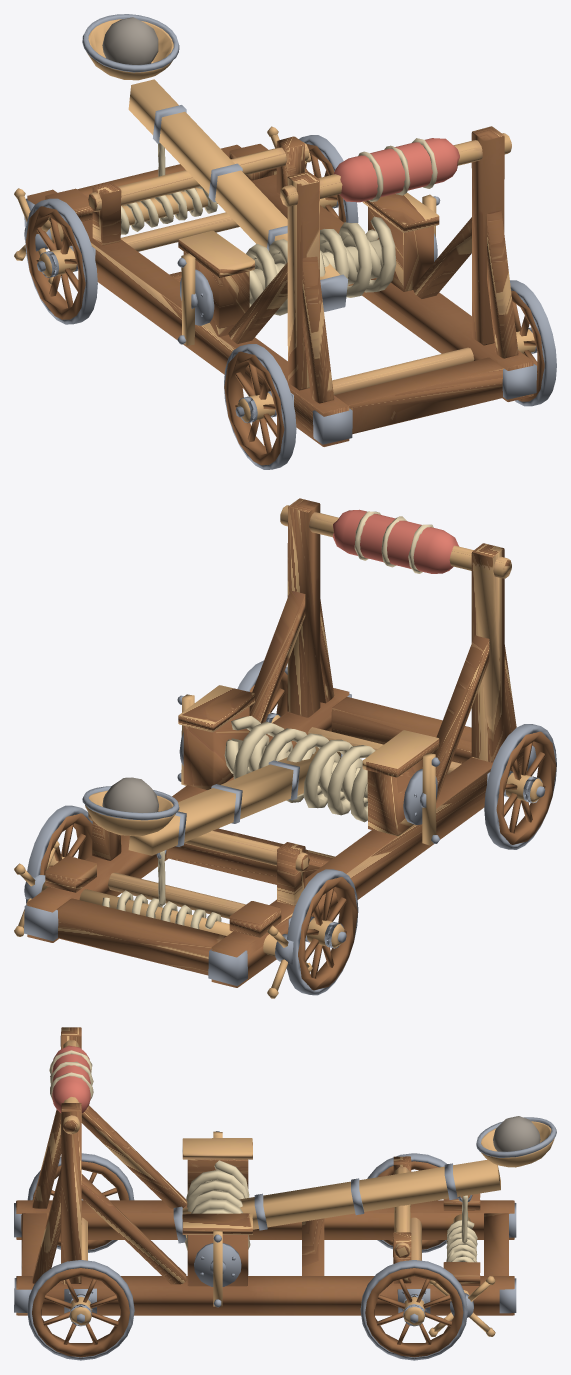
3 renders of one model, top to bottom at view 1: azimuth 30°, elevation 25°; view 2: azimuth 150°, elevation 25°; view 3: azimuth 270°, elevation 25°, orthographic. The views are drawn at different scales.
Parts seen in each view (by area): view 1: catapult_body, catapult_fittings, catapult_arm, catapult_wheel_front_left, catapult_wheel_rear_left, catapult_wheel_front_right, catapult_wheel_rear_right; view 2: catapult_body, catapult_fittings, catapult_arm, catapult_wheel_front_left, catapult_wheel_rear_left, catapult_wheel_rear_right, catapult_wheel_front_right; view 3: catapult_body, catapult_arm, catapult_fittings, catapult_wheel_front_right, catapult_wheel_rear_right, catapult_wheel_front_left, catapult_wheel_rear_left.
Boxes of the visible parts, x1=… form: catapult_body: x1=27, y1=126, x2=533, y2=446; catapult_fittings: x1=14, y1=126, x2=536, y2=444; catapult_arm: x1=82, y1=14, x2=348, y2=311; catapult_wheel_front_left: x1=224, y1=344, x2=296, y2=469; catapult_wheel_rear_left: x1=25, y1=198, x2=97, y2=324; catapult_wheel_front_right: x1=510, y1=280, x2=556, y2=406; catapult_wheel_rear_right: x1=299, y1=135, x2=358, y2=222; catapult_body: x1=27, y1=498, x2=524, y2=987; catapult_fittings: x1=14, y1=509, x2=536, y2=998; catapult_arm: x1=82, y1=746, x2=342, y2=858; catapult_wheel_front_left: x1=484, y1=724, x2=556, y2=849; catapult_wheel_rear_left: x1=286, y1=869, x2=358, y2=995; catapult_wheel_rear_right: x1=25, y1=805, x2=92, y2=903; catapult_wheel_front_right: x1=237, y1=660, x2=287, y2=722; catapult_body: x1=16, y1=1027, x2=514, y2=1315; catapult_arm: x1=173, y1=1116, x2=556, y2=1243; catapult_fittings: x1=14, y1=1045, x2=516, y2=1336; catapult_wheel_front_right: x1=27, y1=1260, x2=134, y2=1360; catapult_wheel_rear_right: x1=360, y1=1260, x2=467, y2=1360; catapult_wheel_front_left: x1=27, y1=1153, x2=134, y2=1252; catapult_wheel_rear_left: x1=367, y1=1153, x2=447, y2=1252.
Size of the model in its own units: 2.48 by 2.26 by 4.56.
7 materials, 1 textured.
